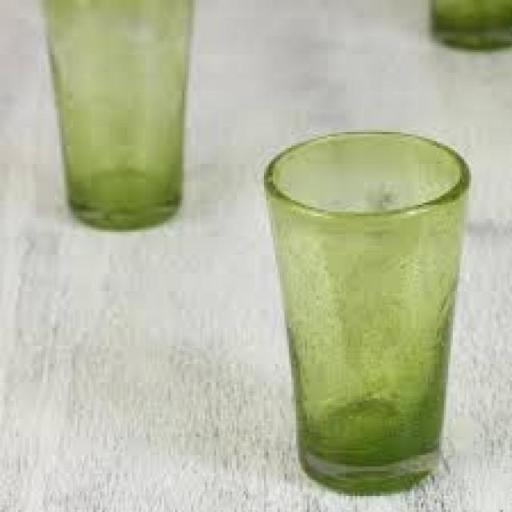glass: (254, 119, 481, 511), (30, 0, 204, 243)
